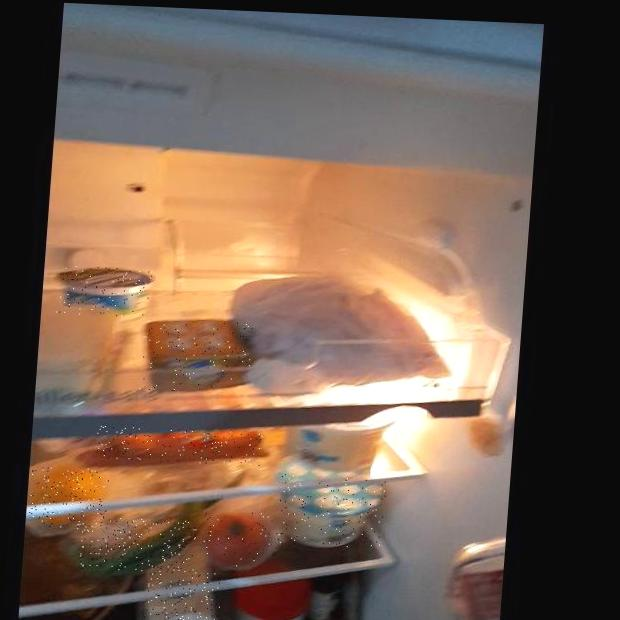butter: (140, 318, 254, 395)
carrot: (96, 426, 265, 466)
green chilies: (79, 516, 198, 573)
lemon: (28, 466, 110, 530)
milk: (143, 569, 223, 620)
tomato: (201, 511, 273, 570)
yoghurt: (276, 474, 387, 549), (282, 426, 391, 475), (56, 266, 153, 318)
